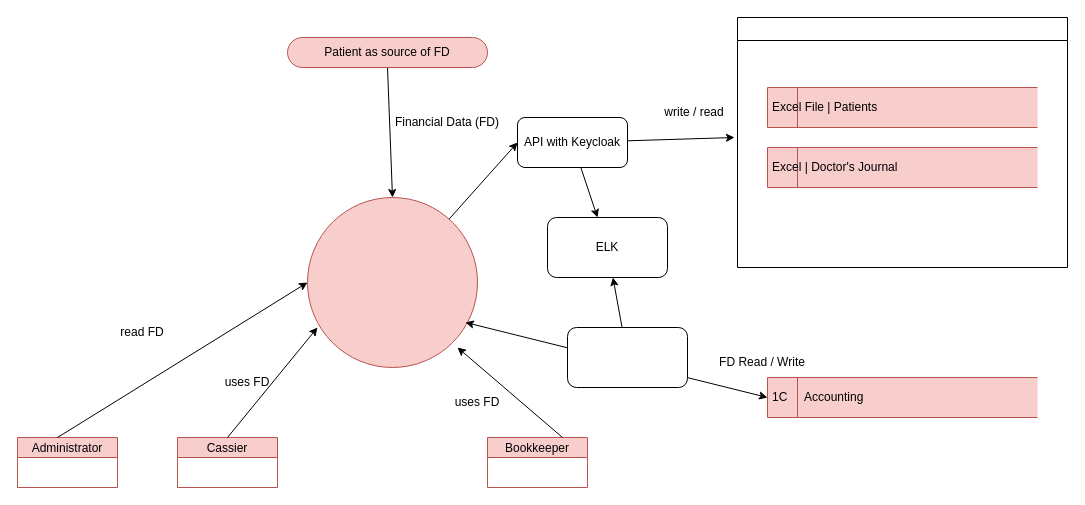
Some shapes in this 1085 by 505 pixel diagram are drawn without their labels. Here are the shapes that lost their labels. From the top down, the centre of each, then its label:
the point at 902,142: S3 Storage
the point at 392,282: Payment (Cash Register)
the point at 627,357: access validation
